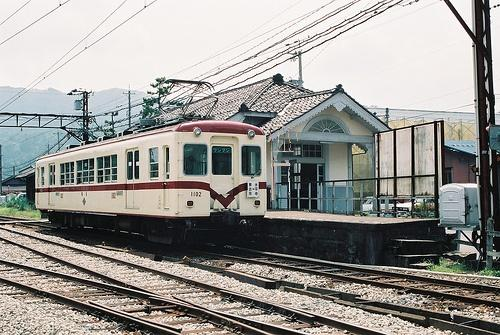tampered: (271, 127, 298, 201)
